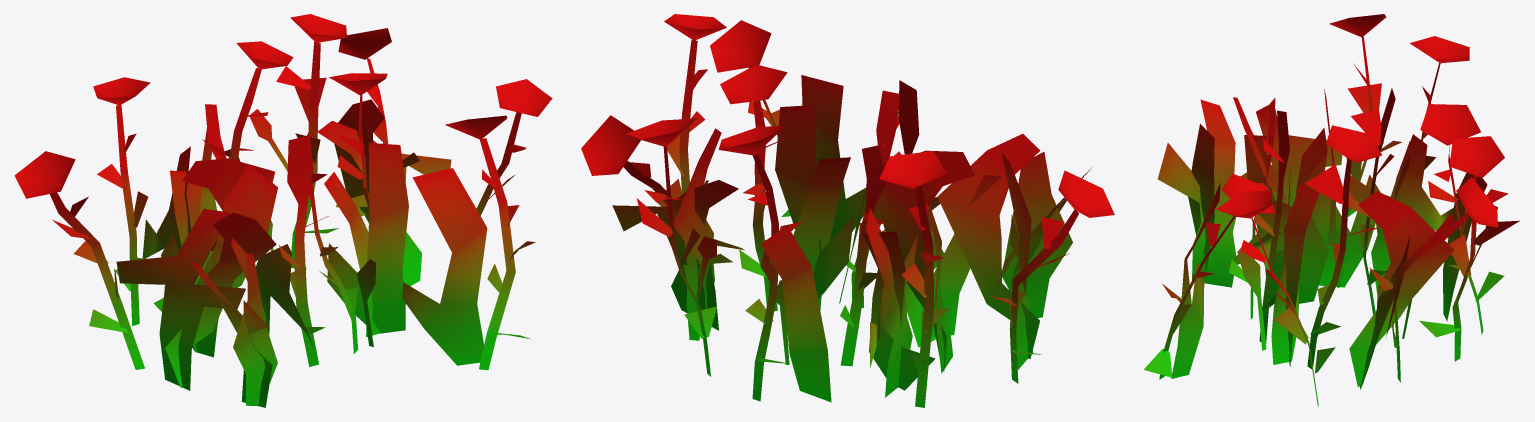
Rendered from Var7_LOD2.fbx.
The picture shows the model from 3 angles, left to right: view 1: azimuth 30°, elevation 25°; view 2: azimuth 150°, elevation 25°; view 3: azimuth 270°, elevation 25°; orthographic projection. The views are drawn at different scales.
Parts seen in each view (by area): view 1: _d1a8_Var7_LOD2; view 2: _d1a8_Var7_LOD2; view 3: _d1a8_Var7_LOD2.
Part boxes in pixels (<box>): _d1a8_Var7_LOD2: <box>14,14,552,407</box>; _d1a8_Var7_LOD2: <box>581,14,1114,407</box>; _d1a8_Var7_LOD2: <box>1143,14,1519,407</box>.
Size of the model in its own units: 17.79 by 8.88 by 12.72.
